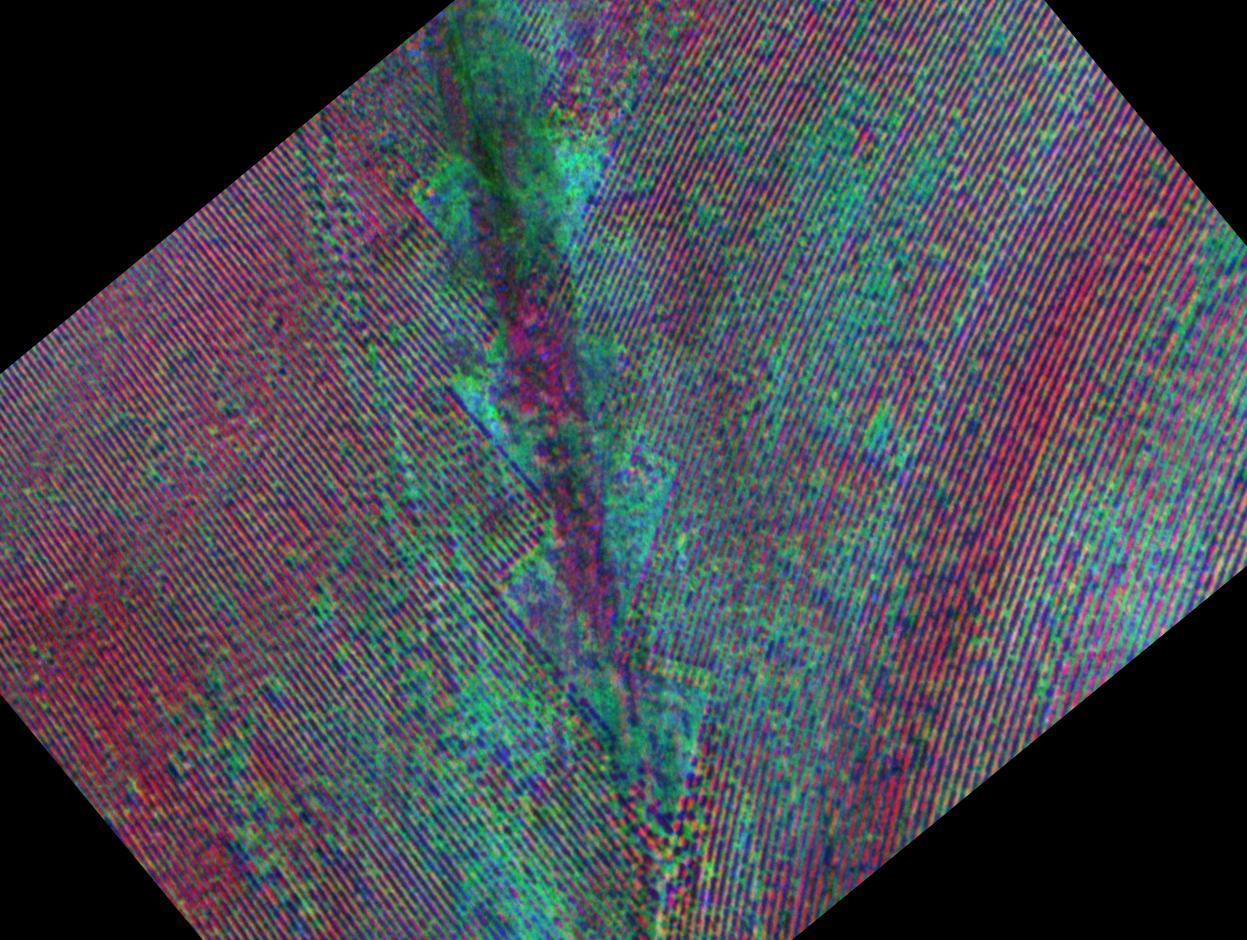dc: (438, 808, 507, 907), (536, 125, 605, 207), (808, 130, 868, 224), (1076, 483, 1133, 576), (448, 660, 508, 737), (623, 473, 666, 542)
